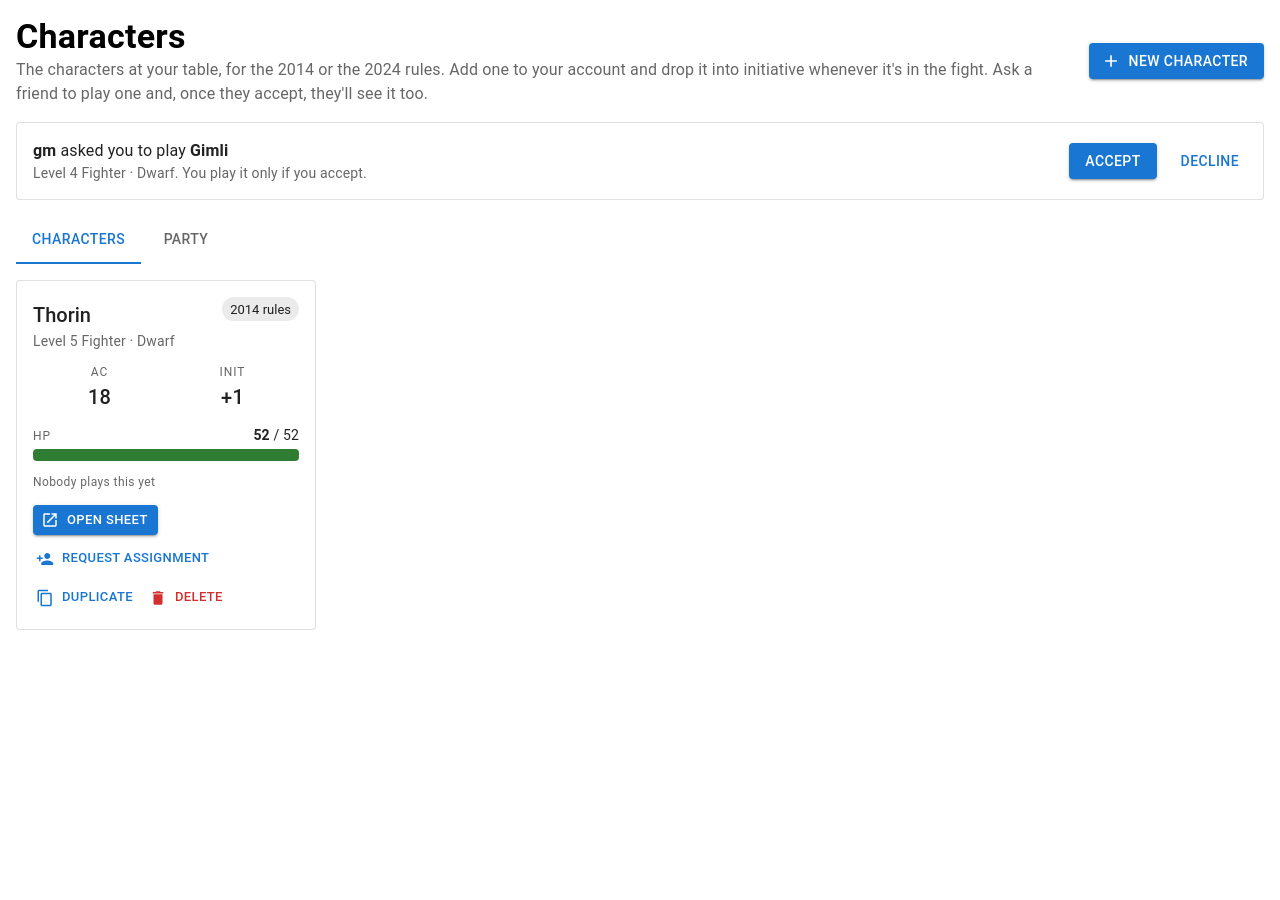
Scenario: being asked › declining sends the answer and the character does not appear
The image size is (1280, 900).
Click the button with aria-label "Decline Gimli": (1210, 161) [1173,143,1247,179]
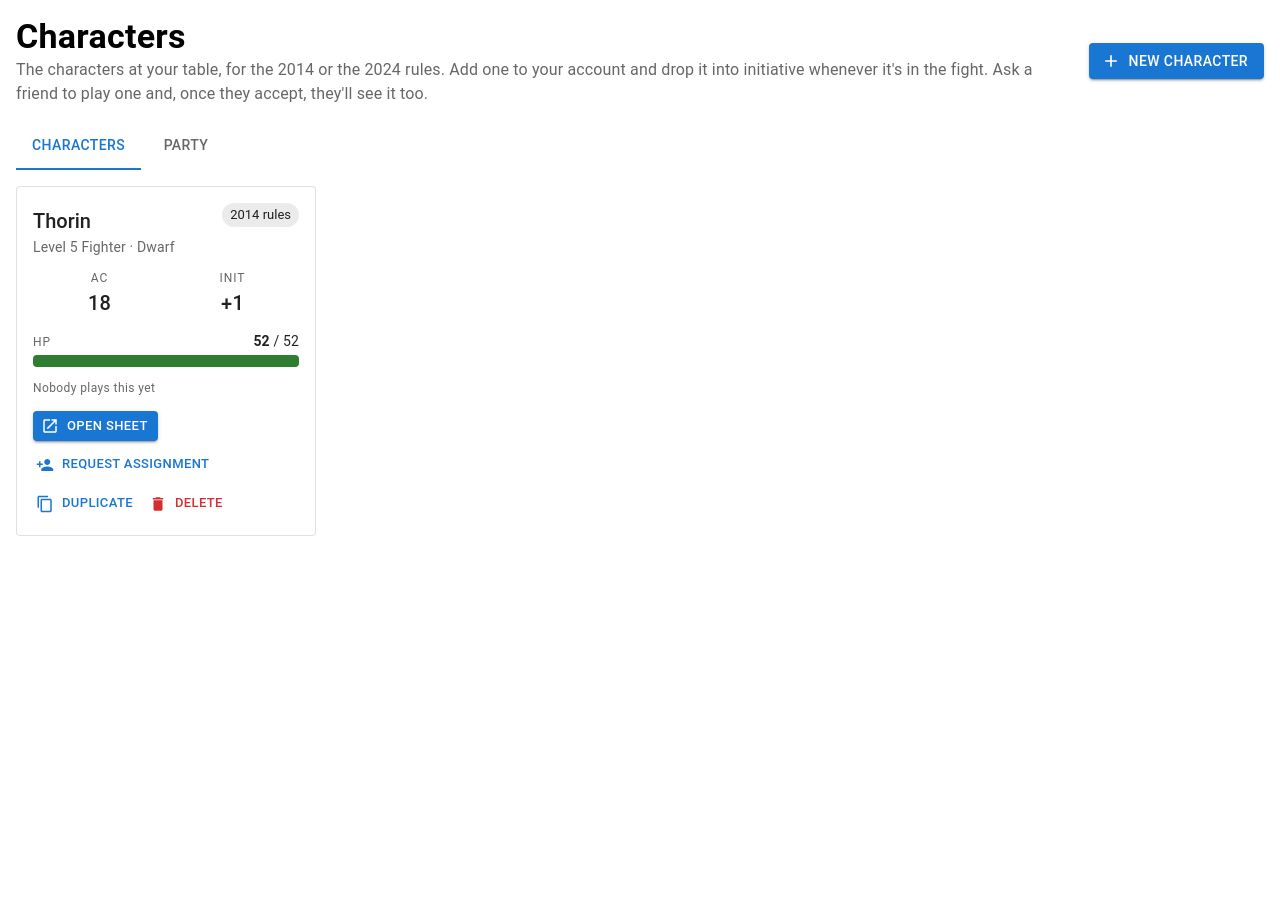
Expected: the text "Gimli" is gone
